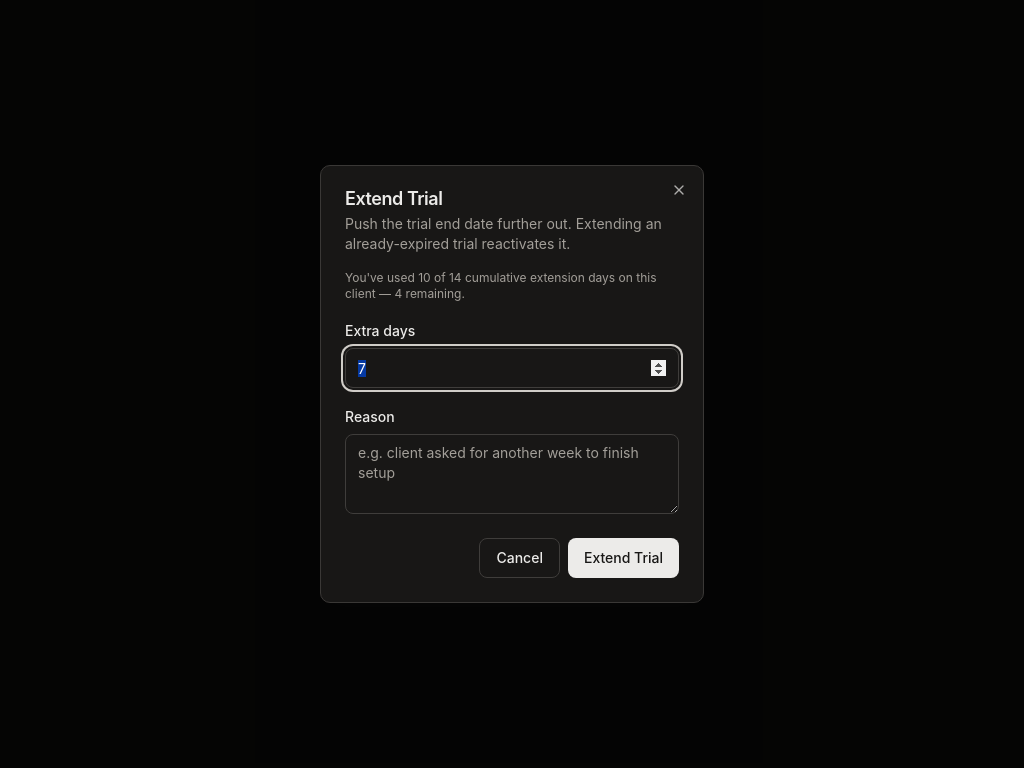
Test: ExtendTrialDialog › surfaces EXTENSION_CAP_EXCEEDED's backend message inline, not just as a toast
In the text box labelled "Reason": (512, 474) 345,434 -> 679,514, type "client asked nicely"
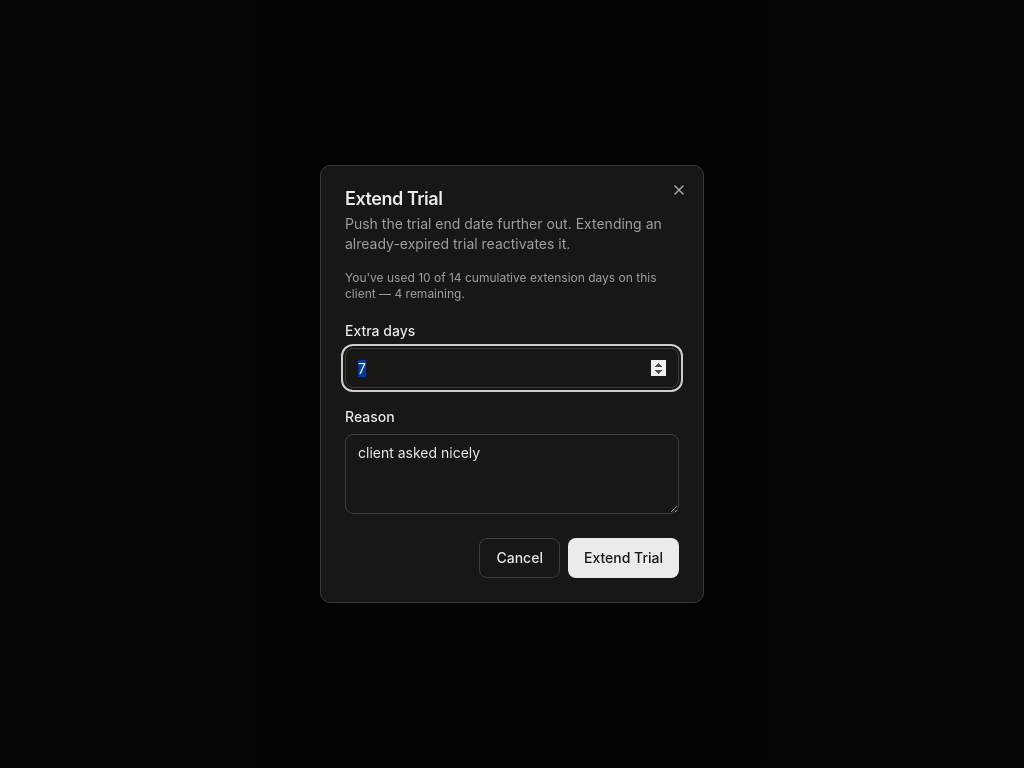
Click the button "Extend Trial": (624, 558) 568,538 -> 679,578
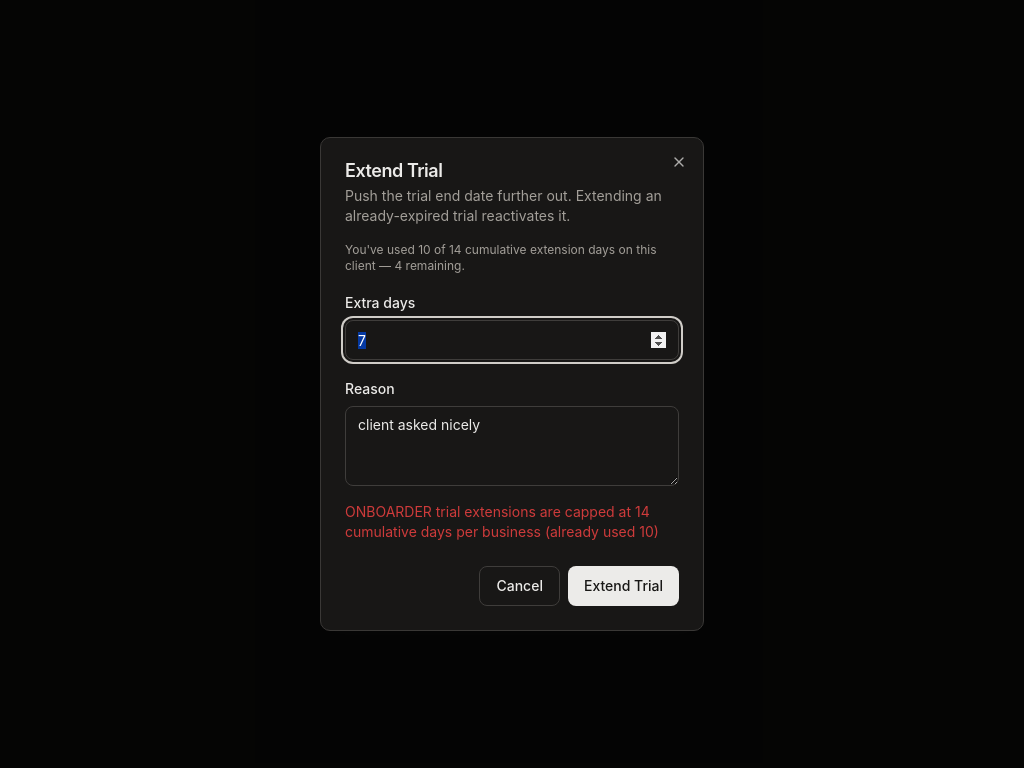
Result: the text "capped at 14 cumulative days per business (already used 10)" is shown at 345,503 -> 659,540
